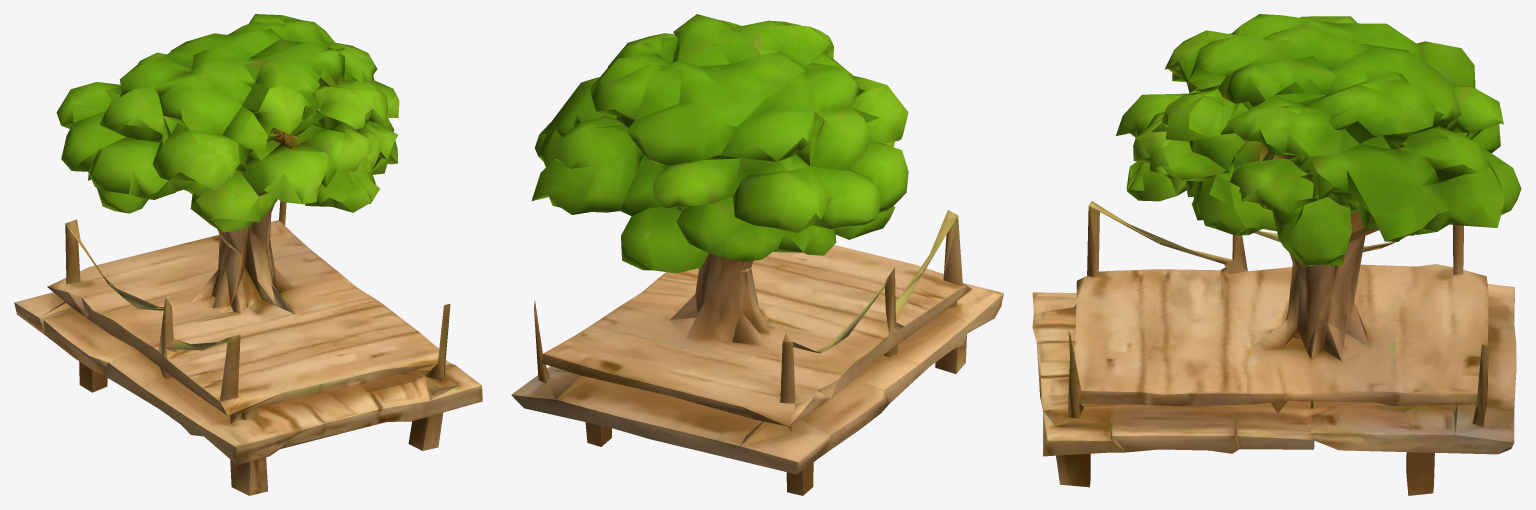
File: m2TreetopDeck.glb
3 views of the same model, side by side, from view 1: azimuth 30°, elevation 25°; view 2: azimuth 150°, elevation 25°; view 3: azimuth 270°, elevation 25° (orthographic). The views are drawn at different scales.
Visible parts, largest first — view 1: model; view 2: model; view 3: model.
Part boxes in pixels (<box>): model: <box>14,14,482,495</box>; model: <box>511,14,1003,495</box>; model: <box>1032,14,1521,495</box>.
Size of the model in its own units: 1.59 by 1.74 by 1.88.
Materials: 1 (1 with a texture image).
